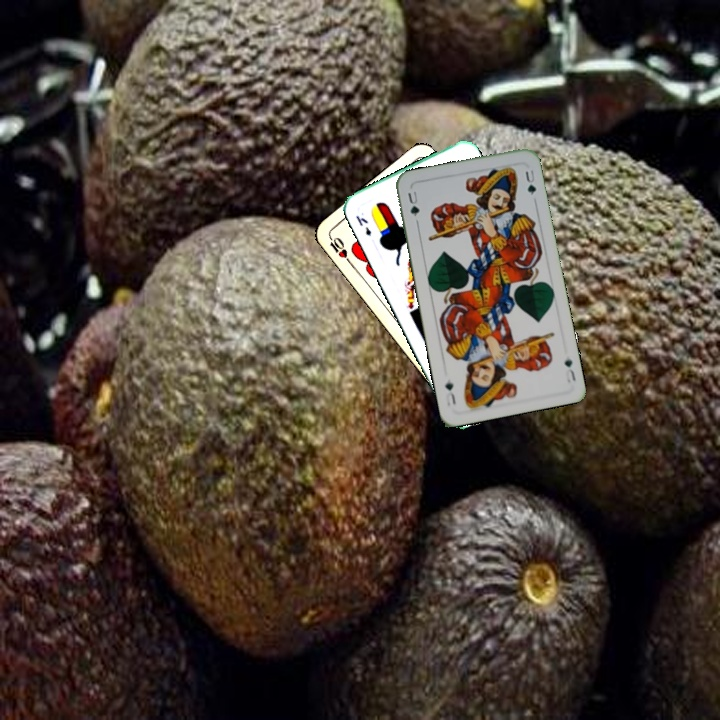EK: (352, 211, 374, 238)
GU: (403, 187, 422, 225), (560, 354, 578, 386)
H10: (324, 231, 353, 266)
